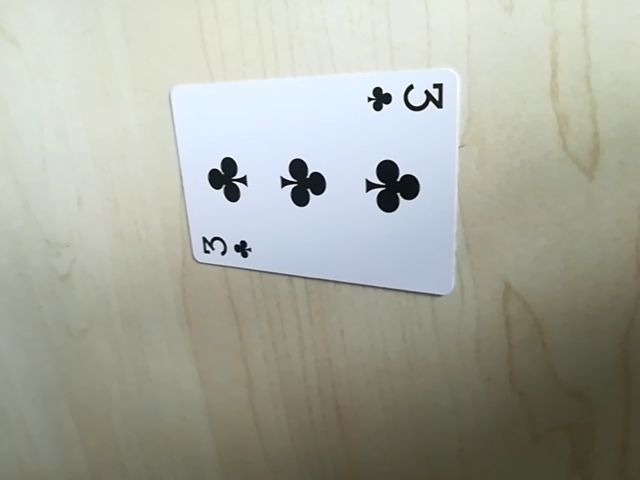mh 3: (366, 77, 447, 116), (195, 231, 257, 264)
